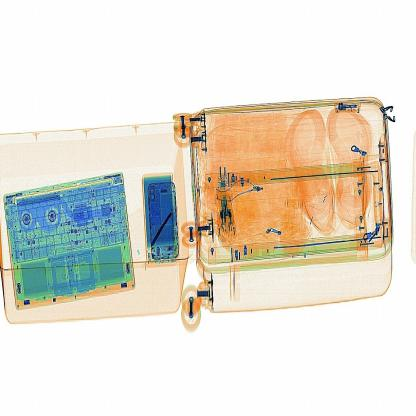knife: (148, 206, 176, 247)
